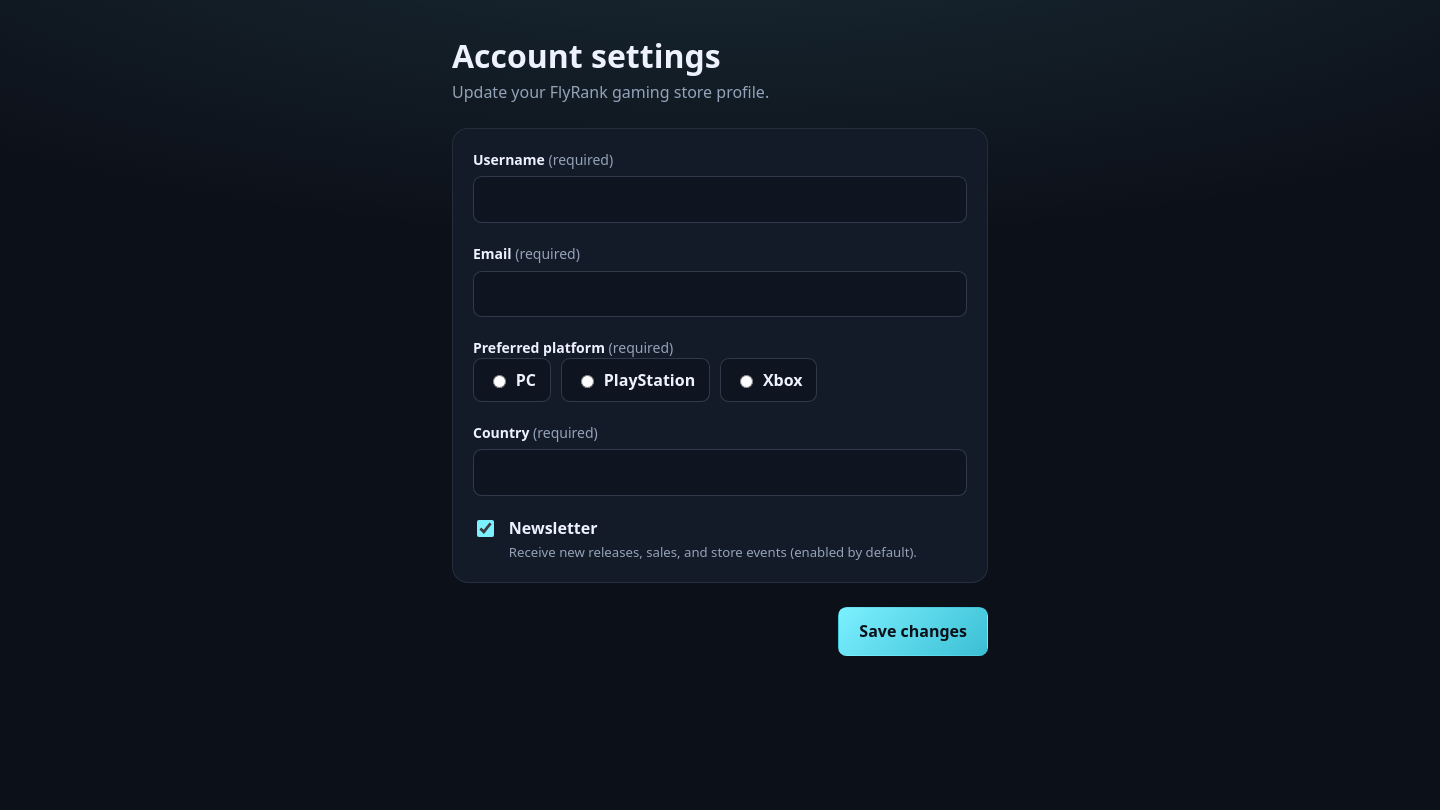
Test case: AccountSettingsForm › submits valid data and shows success state
Type "Joey" into the field labelled "Username (required)" at (720, 200), box [473, 176, 967, 223]
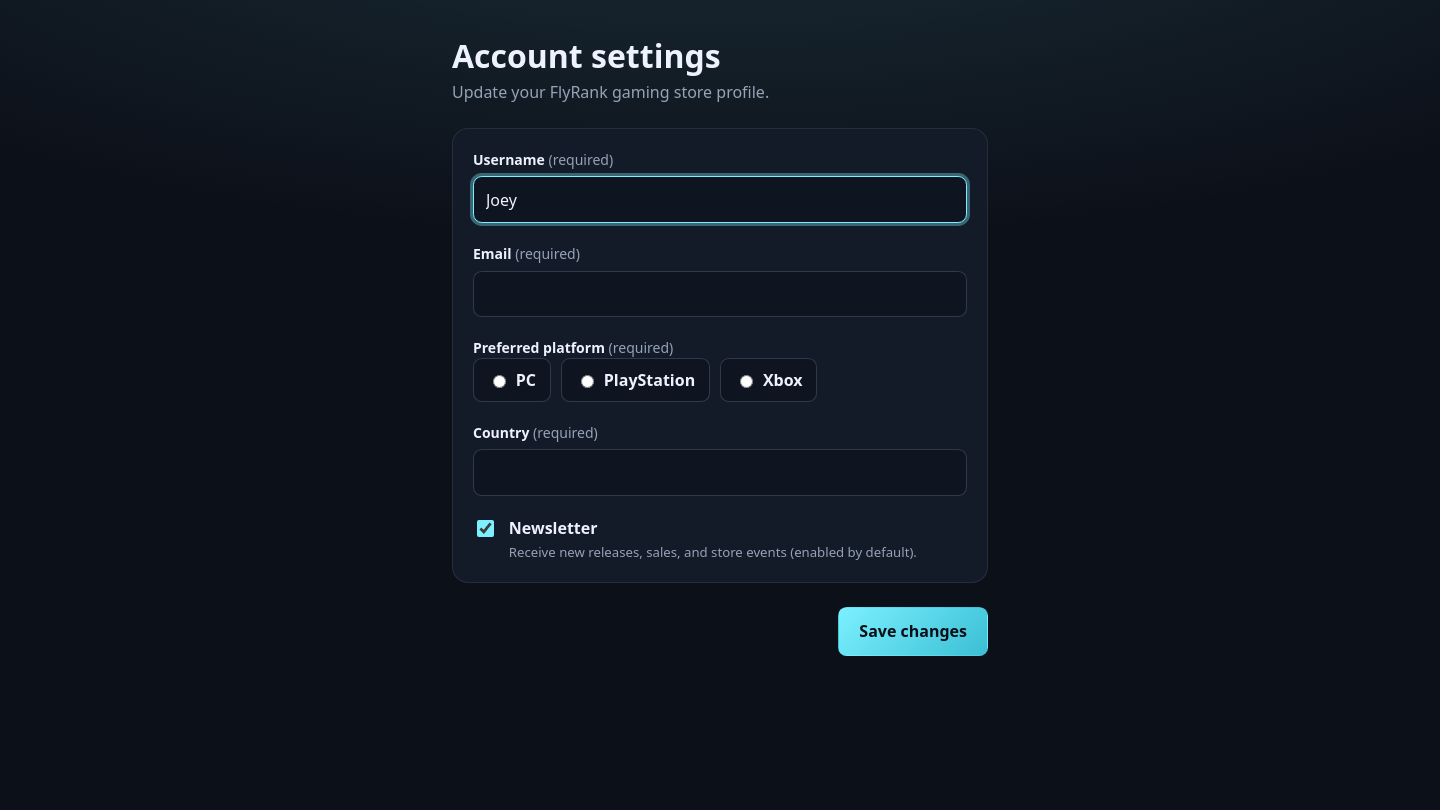
Type "joey@example.com" into the field labelled "Email (required)" at (720, 294), box [473, 271, 967, 317]
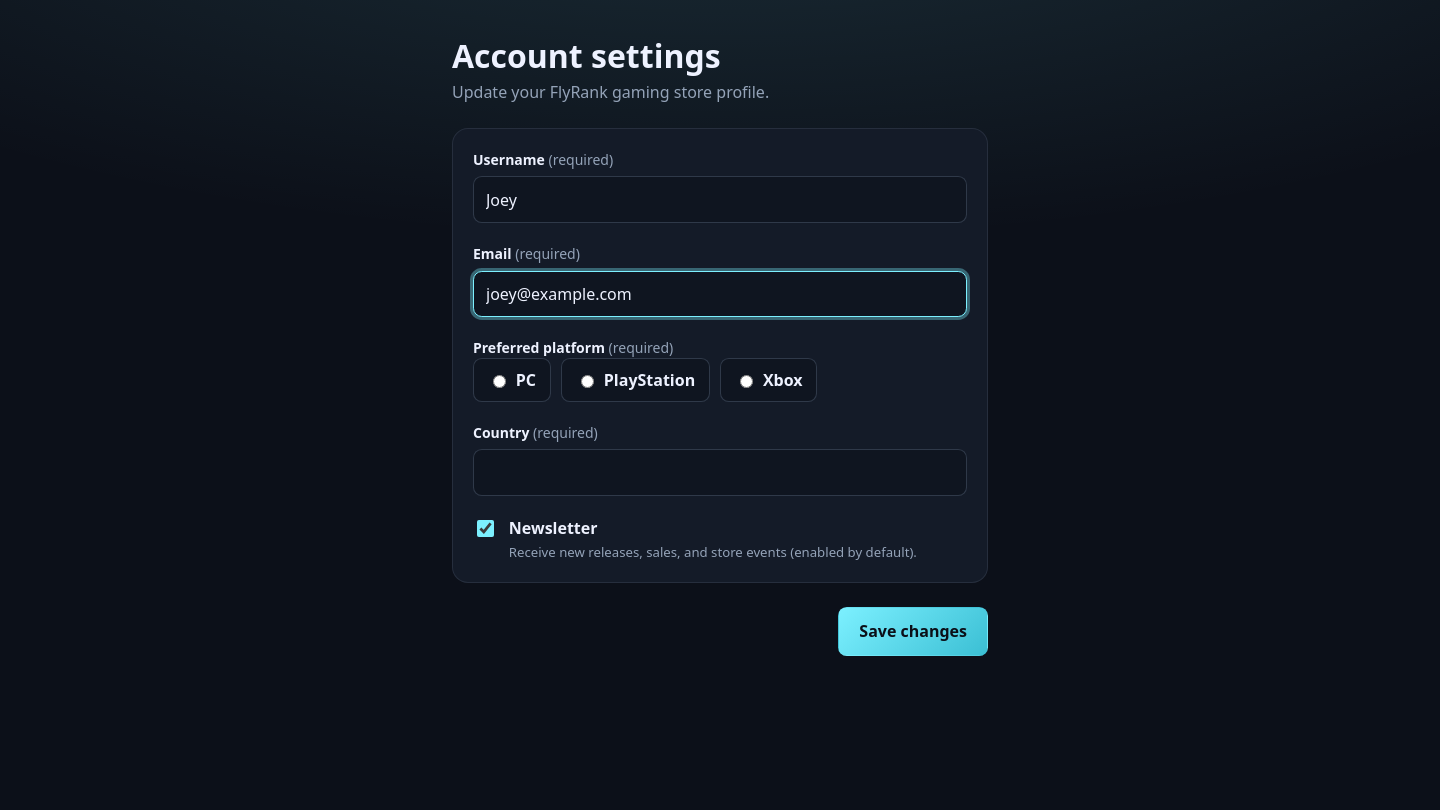
Click the radio button labelled "PC" at (499, 382), box [493, 375, 506, 388]
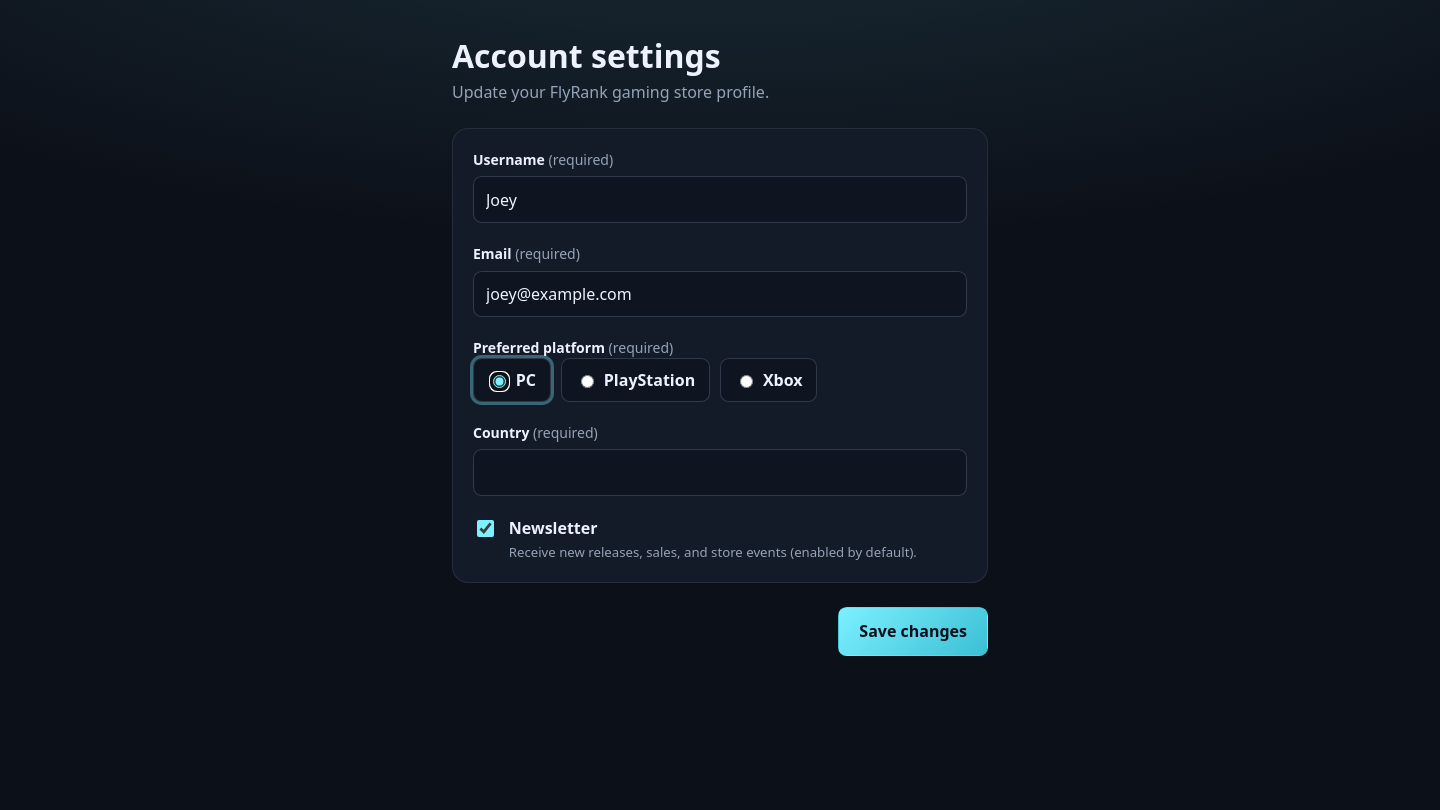
Type "Egypt" into the field labelled "Country (required)" at (720, 473), box [473, 449, 967, 496]
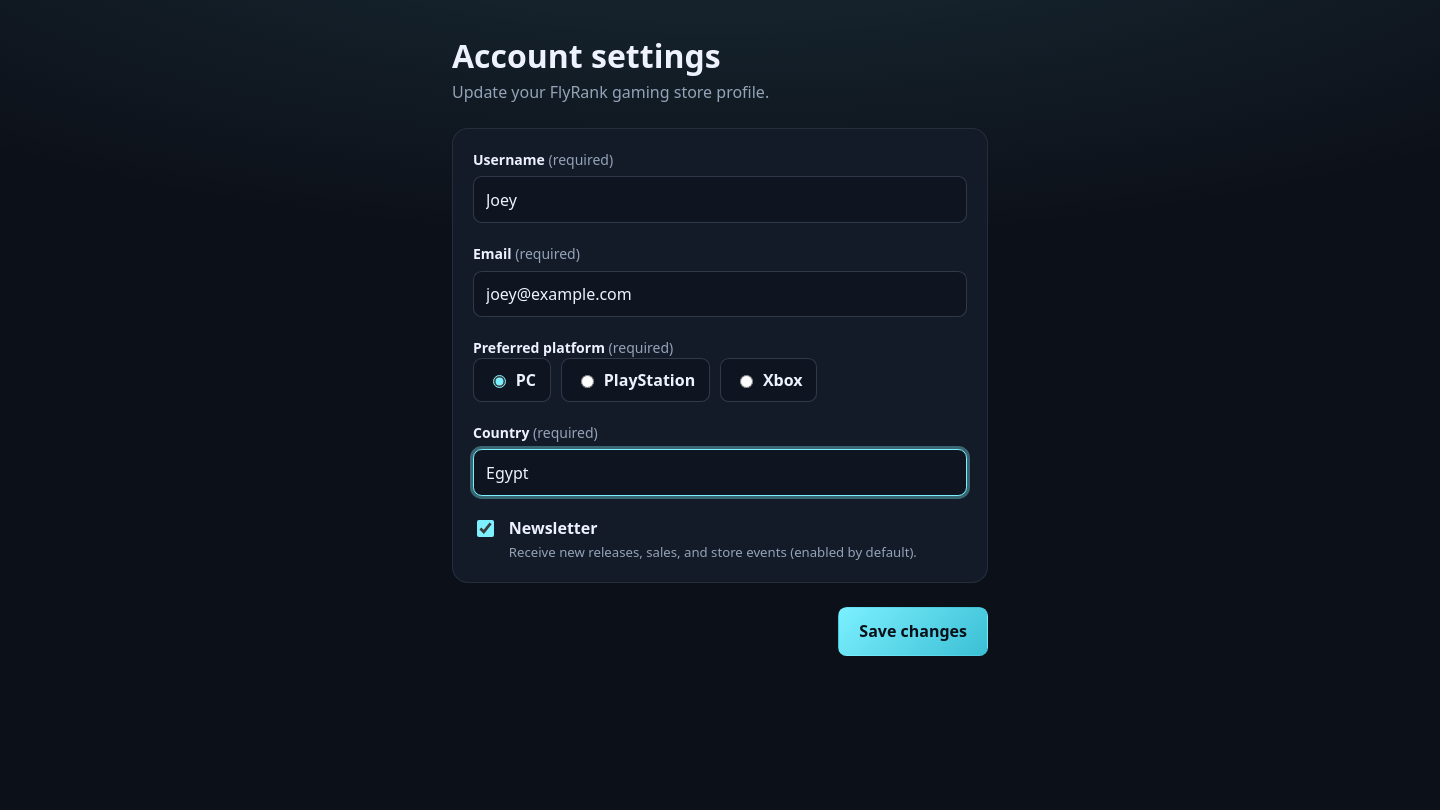
Click the button "Save changes" at (913, 632), box [838, 607, 988, 656]
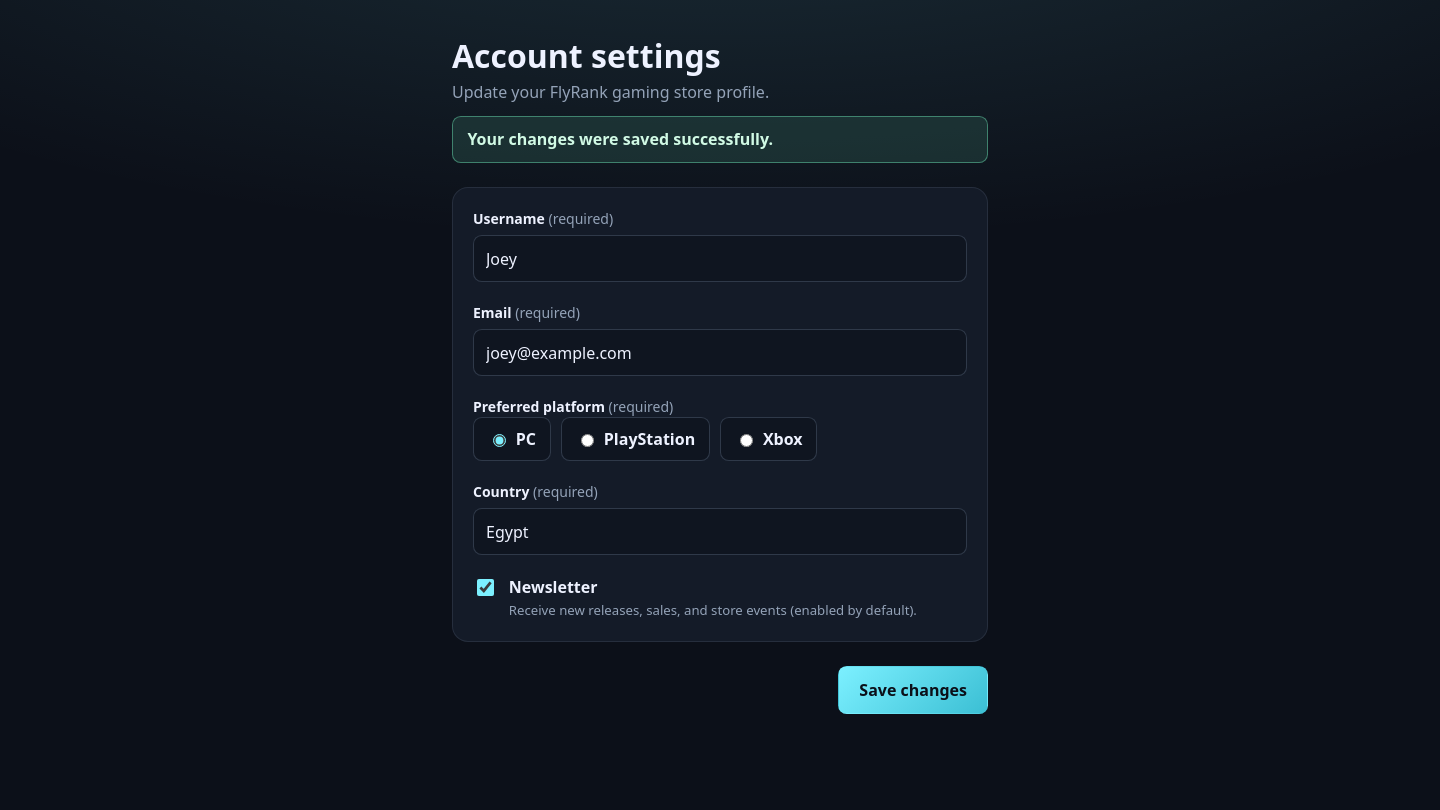
Now the text "Your changes were saved successfully." is shown, box [452, 116, 988, 163]
